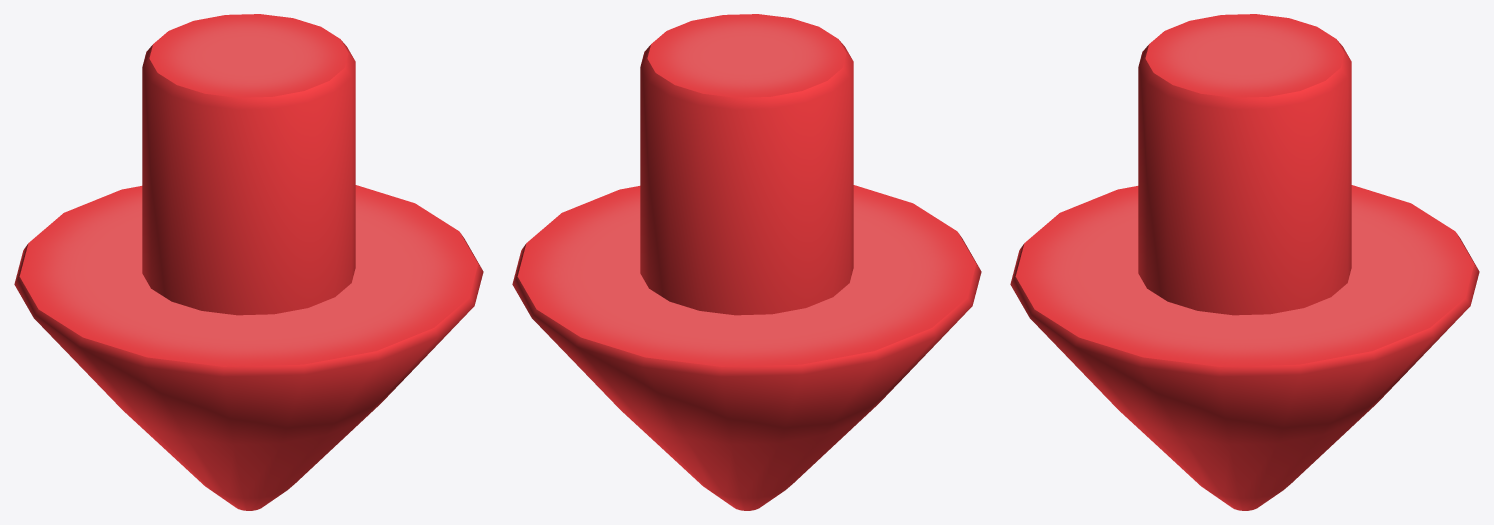
The model's file is Arrow.FBX.
3 views of the same model, side by side, from view 1: azimuth 30°, elevation 25°; view 2: azimuth 150°, elevation 25°; view 3: azimuth 270°, elevation 25° (orthographic).
Parts seen in each view (by area): view 1: Arrow; view 2: Arrow; view 3: Arrow.
Part boxes in pixels (x1,y1,x2,y2): Arrow: (14, 14, 483, 510); Arrow: (512, 14, 981, 510); Arrow: (1010, 14, 1479, 510).
Size of the model in its own units: 73.36 by 78.2 by 73.66.
1 material, 1 textured.
